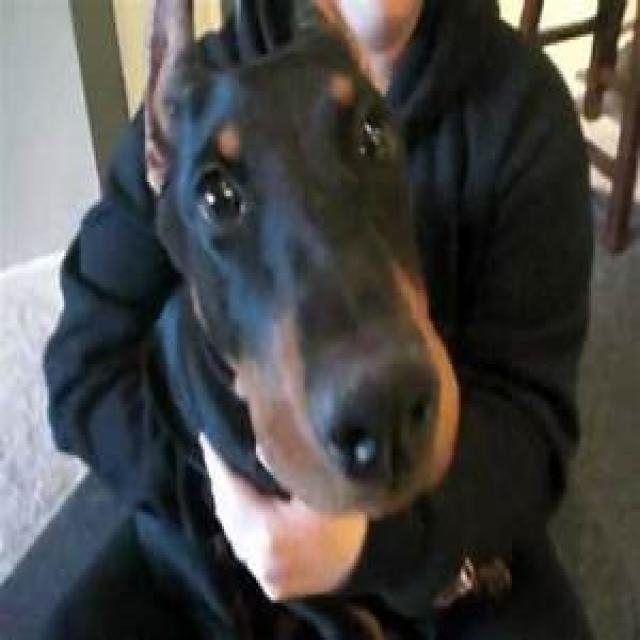dog: (156, 23, 460, 516)
